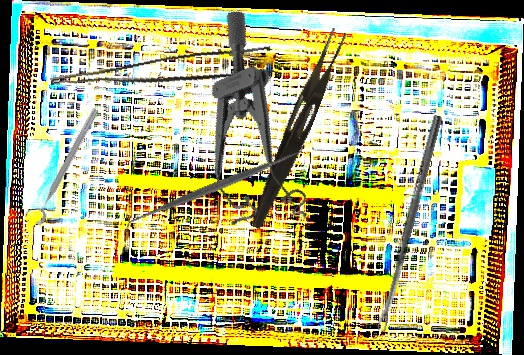Dressing Forceps: (248, 24, 348, 234)
Fixation Ring: (22, 102, 103, 227)
Spatula Surgical: (116, 139, 312, 237)
Speculum: (153, 5, 329, 248)
Surgical Spoon: (375, 114, 443, 332)
Tissue Forceps: (50, 39, 275, 111)
